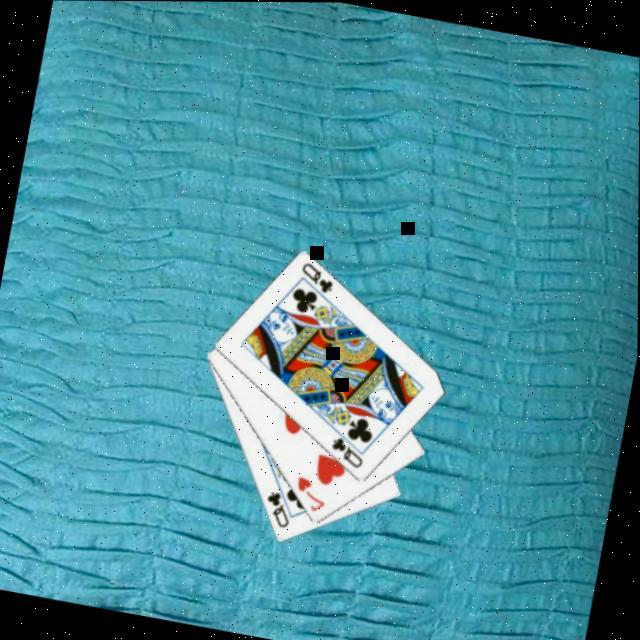7H: (291, 470, 333, 514)
QC: (326, 430, 371, 469), (260, 484, 298, 530), (296, 257, 341, 295)
